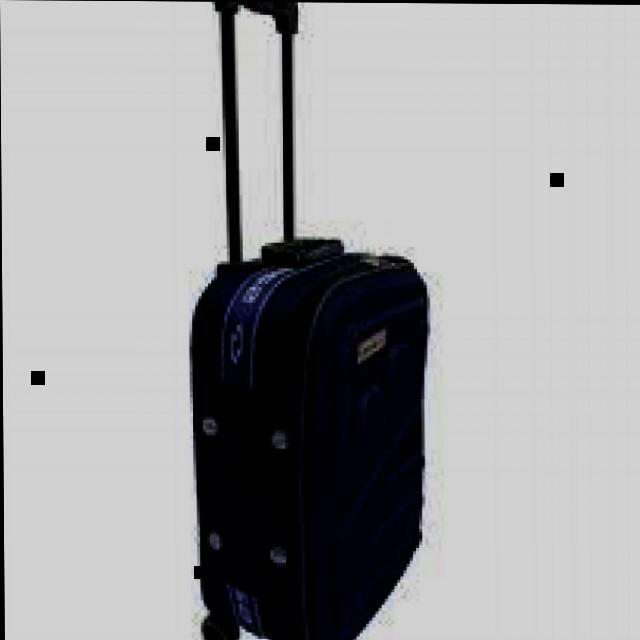luggage: (182, 226, 444, 640)
